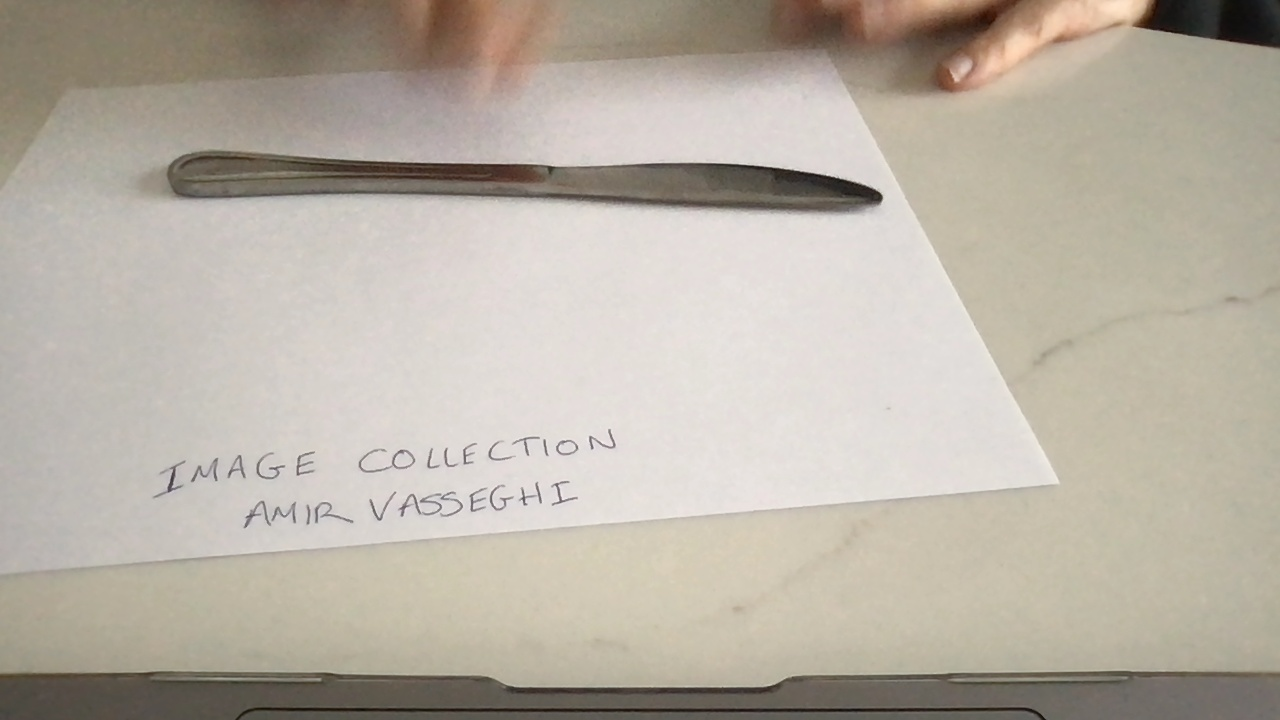knife: (166, 148, 883, 212)
